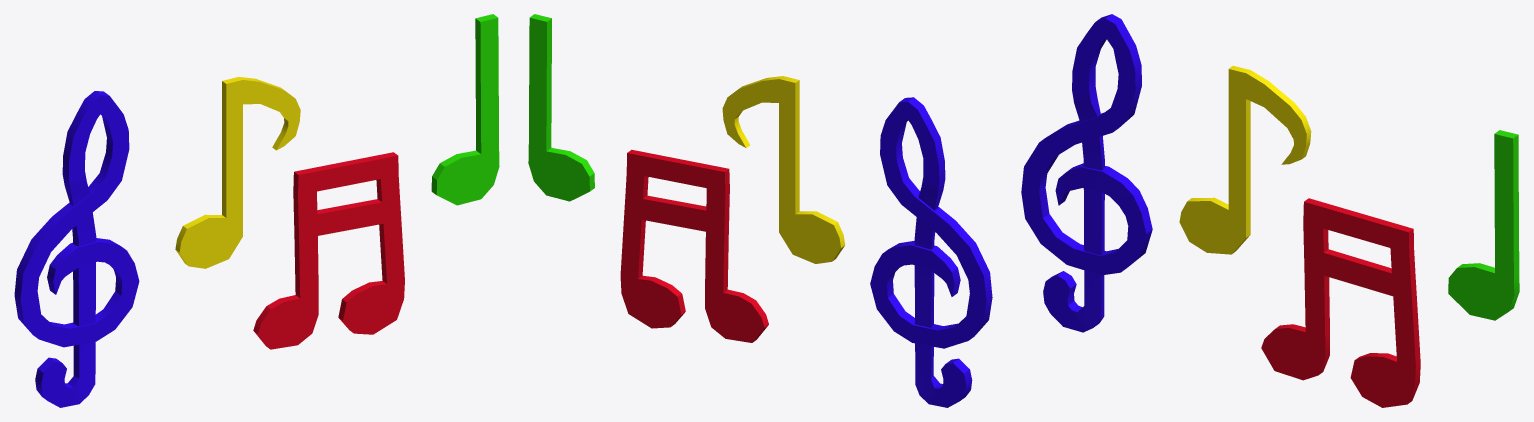
File: Notas.fbx
3 views of the same model, side by side, from view 1: azimuth 30°, elevation 25°; view 2: azimuth 150°, elevation 25°; view 3: azimuth 330°, elevation 25° (orthographic). The views are drawn at different scales.
Parts seen in each view (by area): view 1: Nota1, Nota3, Nota2, Nota4; view 2: Nota1, Nota3, Nota2, Nota4; view 3: Nota1, Nota3, Nota2, Nota4.
Boxes of the visible parts, x1=… form: Nota1: x1=14, y1=91, x2=139, y2=407; Nota3: x1=253, y1=152, x2=404, y2=349; Nota2: x1=175, y1=77, x2=300, y2=268; Nota4: x1=431, y1=14, x2=499, y2=205; Nota1: x1=870, y1=97, x2=992, y2=407; Nota3: x1=620, y1=149, x2=768, y2=342; Nota2: x1=722, y1=76, x2=845, y2=263; Nota4: x1=528, y1=14, x2=594, y2=201; Nota1: x1=1021, y1=14, x2=1152, y2=332; Nota3: x1=1261, y1=198, x2=1420, y2=407; Nota2: x1=1179, y1=66, x2=1311, y2=254; Nota4: x1=1448, y1=130, x2=1519, y2=320.
Bounding box in the file's own units: 498 × 305 × 20.48.
